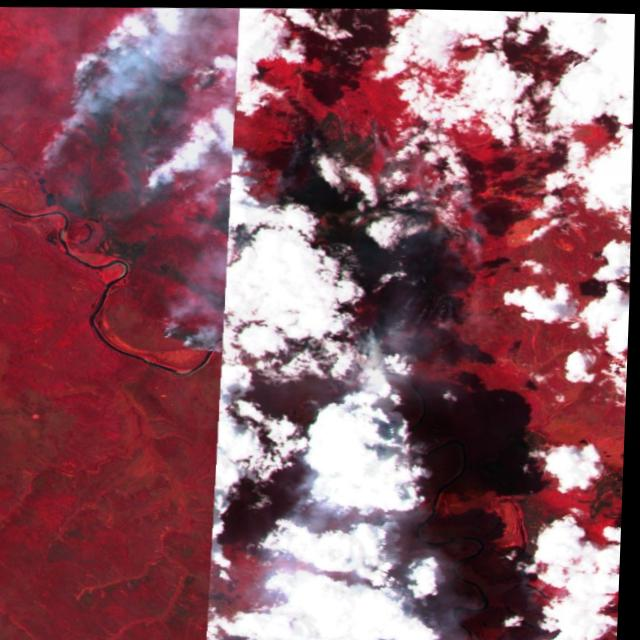fire: (26, 15, 246, 359), (320, 273, 481, 375), (254, 119, 324, 191), (497, 540, 556, 580)
